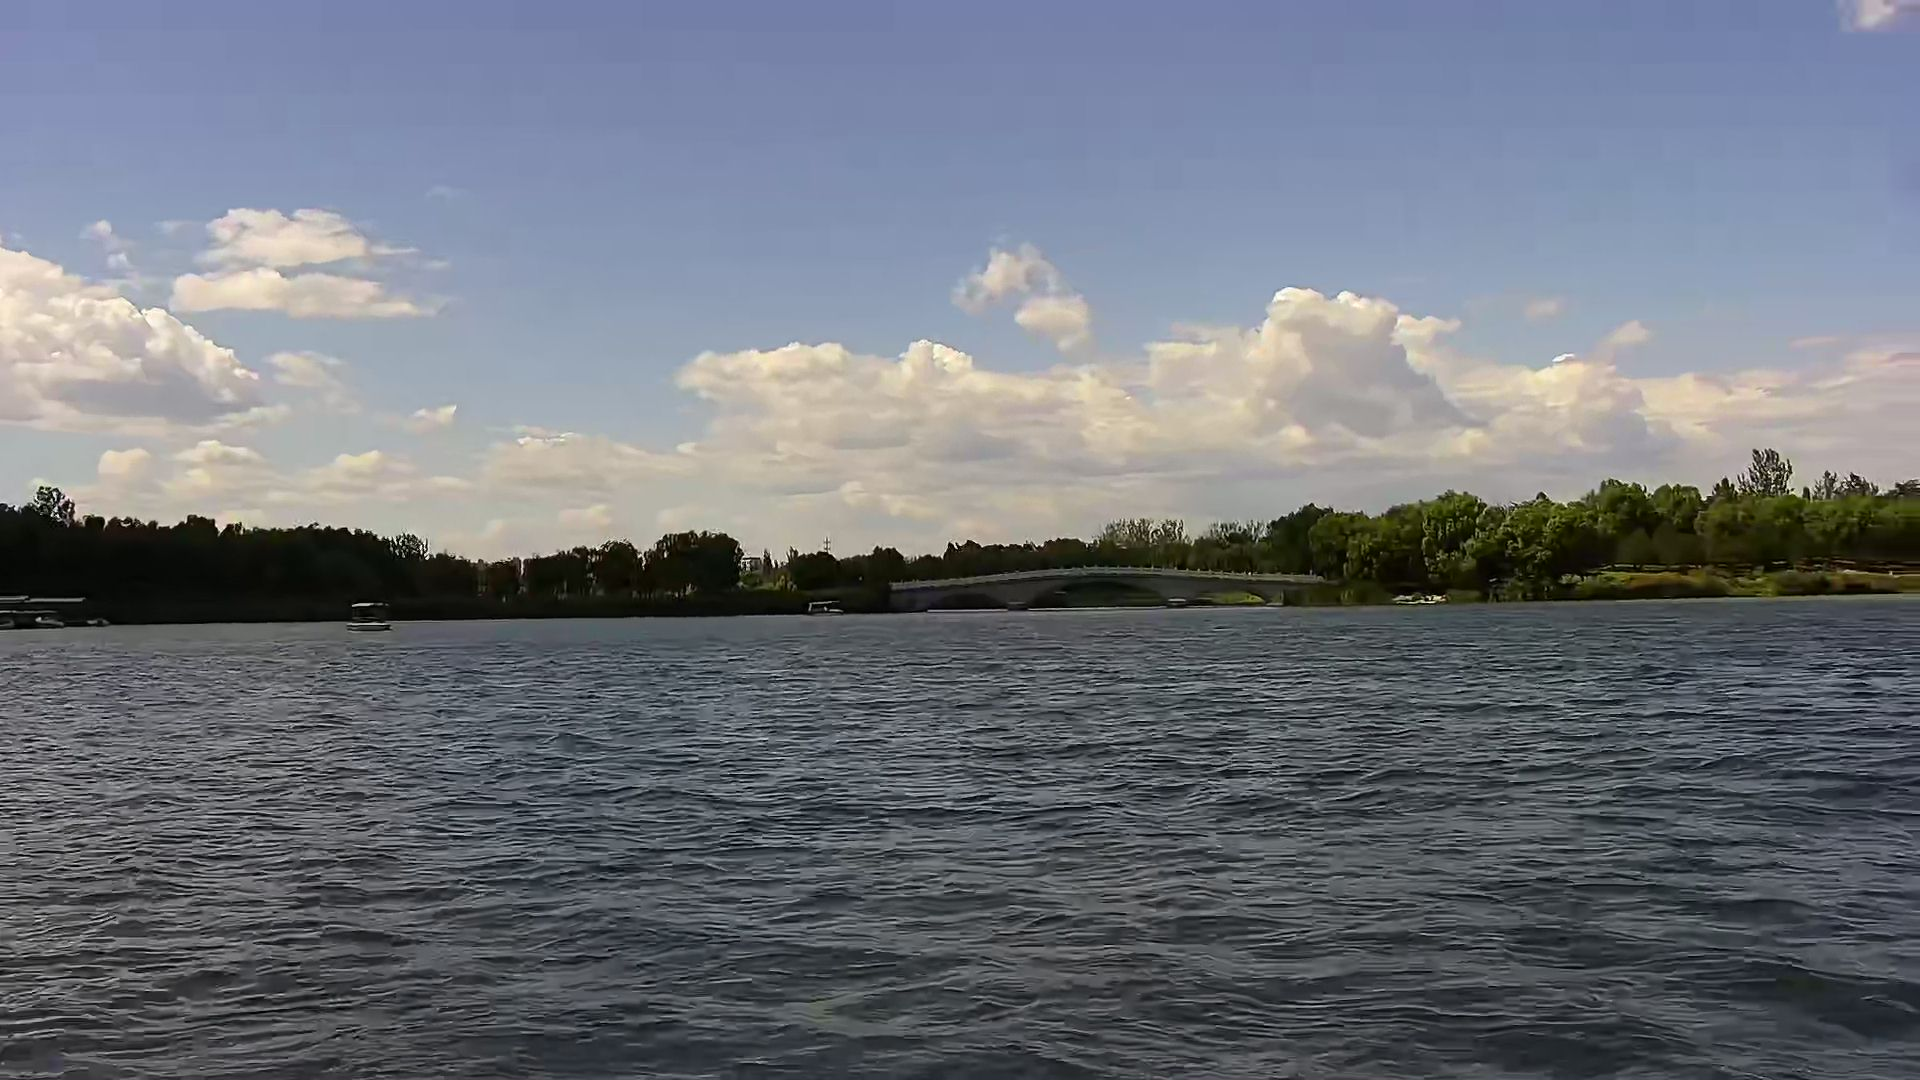boat: (343, 595, 406, 642)
bridge: (890, 560, 1331, 612)
harbor: (1, 589, 109, 637)
